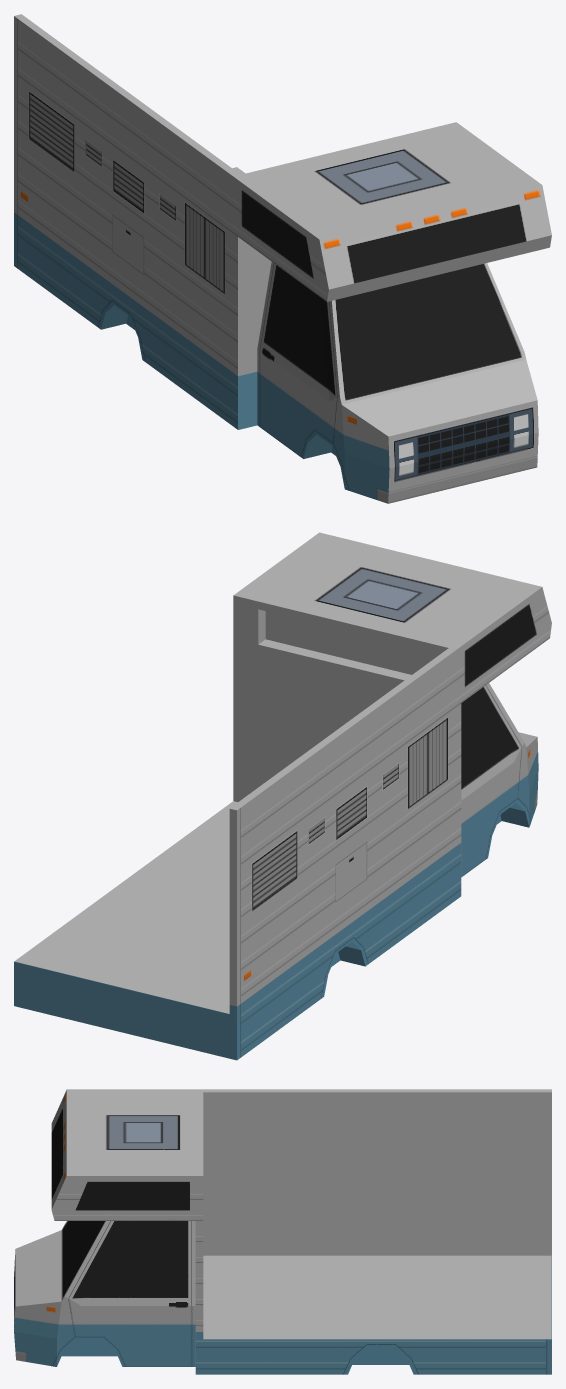
File: VehicleBody.fbx
3 renders of one model, top to bottom at view 1: azimuth 30°, elevation 25°; view 2: azimuth 150°, elevation 25°; view 3: azimuth 270°, elevation 25°, orthographic. The views are drawn at different scales.
Visible parts, largest first — view 1: VehicleBody; view 2: VehicleBody; view 3: VehicleBody.
Boxes of the visible parts, <box> form: VehicleBody: <box>14,14,551,503</box>; VehicleBody: <box>14,532,551,1060</box>; VehicleBody: <box>14,1089,551,1374</box>.
Size of the model in its own units: 419 by 449 by 1103.
